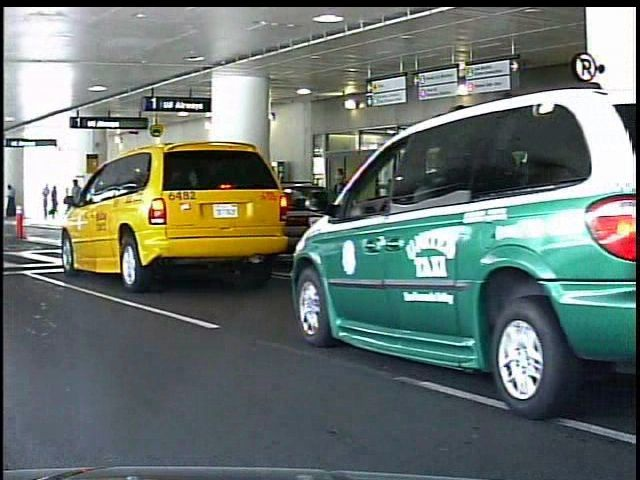person: (326, 166, 356, 268), (66, 177, 88, 232), (54, 182, 66, 222), (47, 181, 58, 222), (8, 183, 18, 210)
